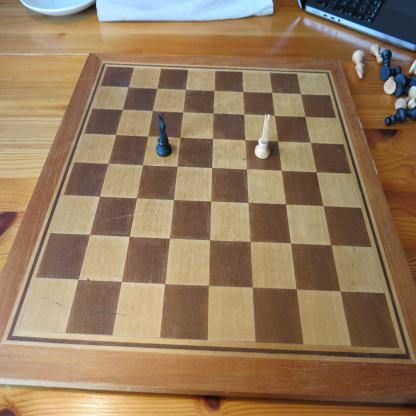black-knight: (156, 112, 172, 158)
black-pawn: (384, 108, 406, 127)
white-bishop: (352, 49, 366, 81)
white-knight: (254, 113, 271, 160)
white-pawn: (370, 42, 383, 64)
